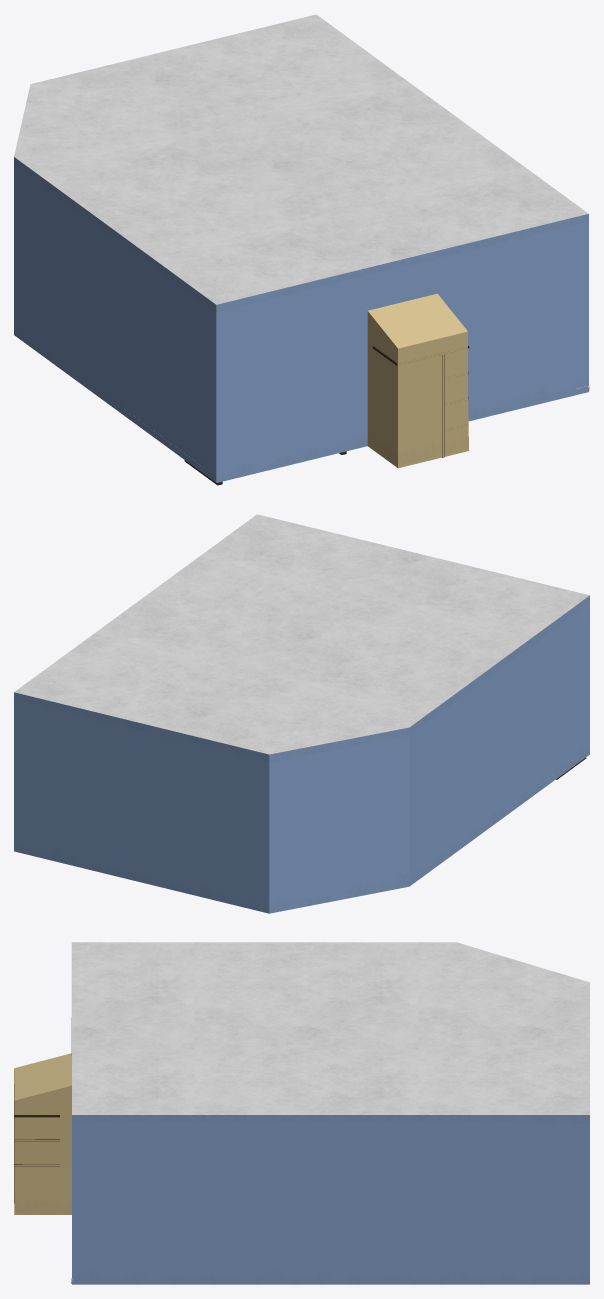
The model's file is bedroom.fbx.
The picture shows the model from 3 angles, top to bottom: view 1: azimuth 30°, elevation 25°; view 2: azimuth 150°, elevation 25°; view 3: azimuth 270°, elevation 25°; orthographic projection. The views are drawn at different scales.
Visible parts, largest first — view 1: bedroom; view 2: bedroom; view 3: bedroom.
Boxes of the visible parts, x1,y1,x2,y2 form: bedroom: [14, 14, 589, 485]; bedroom: [14, 514, 589, 913]; bedroom: [14, 942, 589, 1284].
Bounding box in the file's own units: 581 × 270 × 814.
